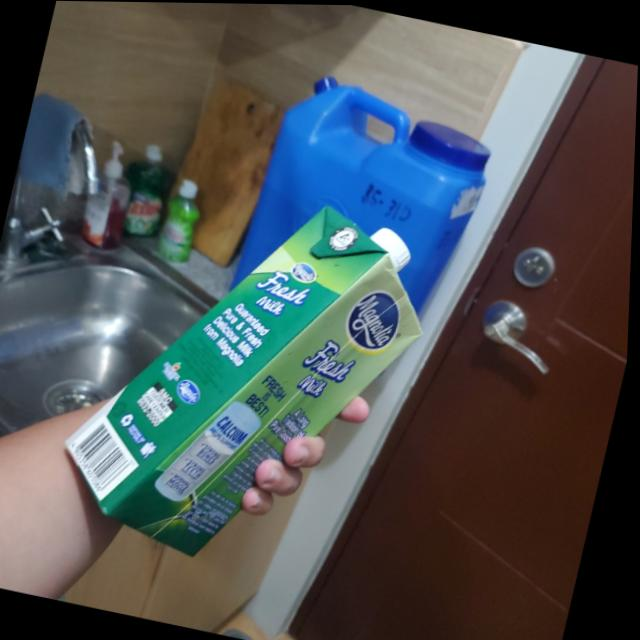milk: (49, 162, 464, 598)
